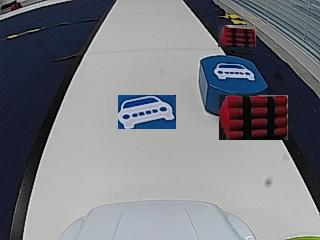safety: (213, 62, 255, 81)
